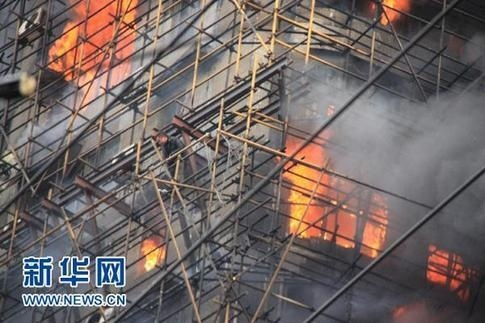fire: (283, 147, 387, 253), (46, 0, 140, 95), (425, 246, 468, 288), (138, 238, 164, 271)
